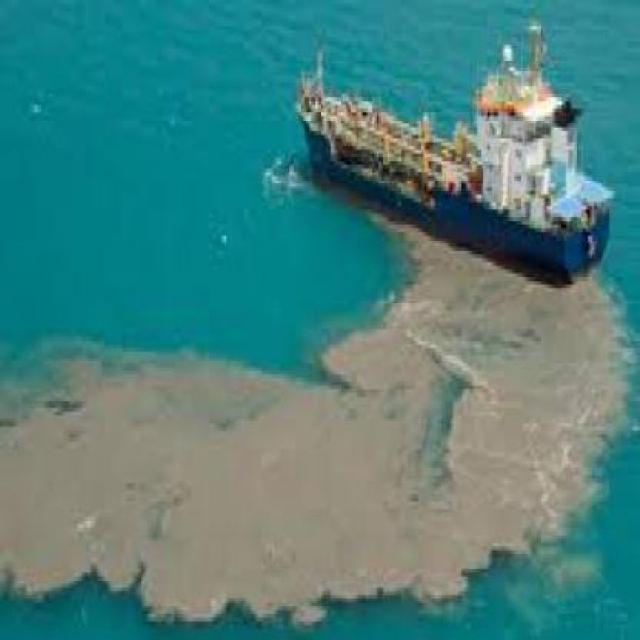fish-b: (284, 12, 626, 312)
